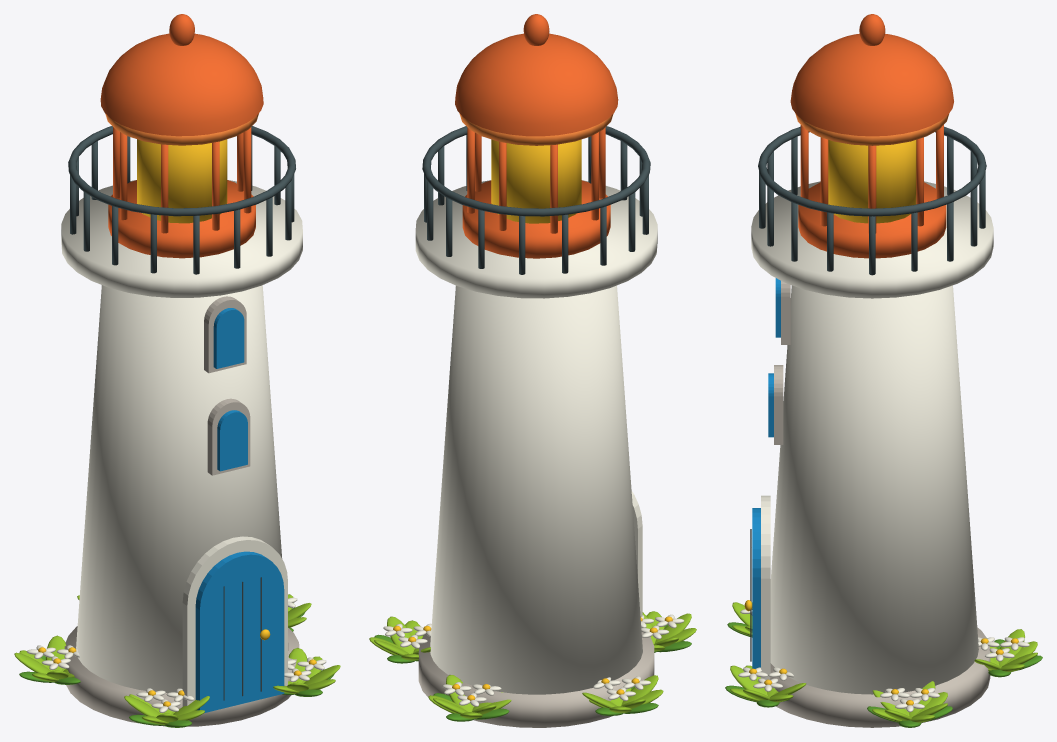
Rendered from lighthouse.glb.
3 views of the same model, side by side, from view 1: azimuth 30°, elevation 25°; view 2: azimuth 150°, elevation 25°; view 3: azimuth 270°, elevation 25° (orthographic).
Visible parts, largest first — view 1: lighthouse; view 2: lighthouse; view 3: lighthouse.
Boxes of the visible parts, box(x1,y1,x2,y2) form: lighthouse: box(14, 14, 340, 727); lighthouse: box(369, 14, 696, 727); lighthouse: box(725, 14, 1042, 727).
Bounding box in the file's own units: 2.09 × 4.65 × 2.02.
